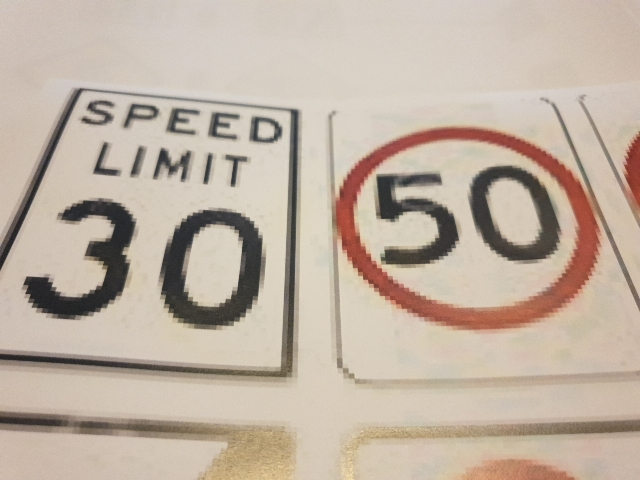sp30: (45, 192, 275, 348)
sp50: (342, 134, 611, 326)
